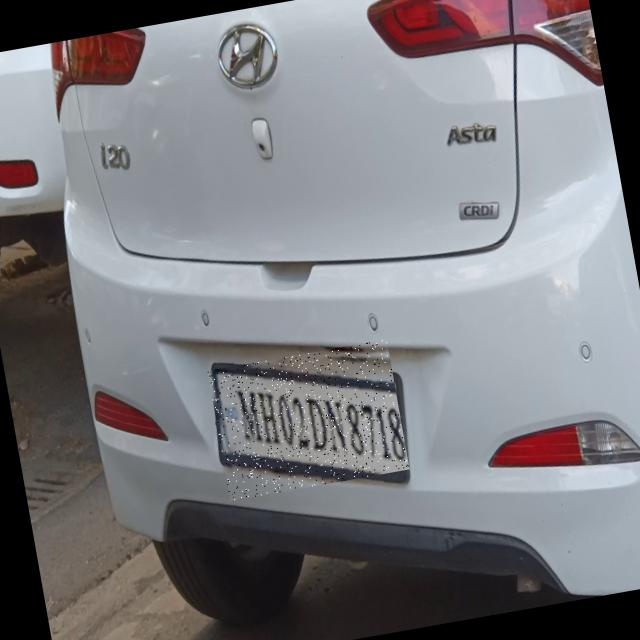Plate: (208, 340, 410, 502)
